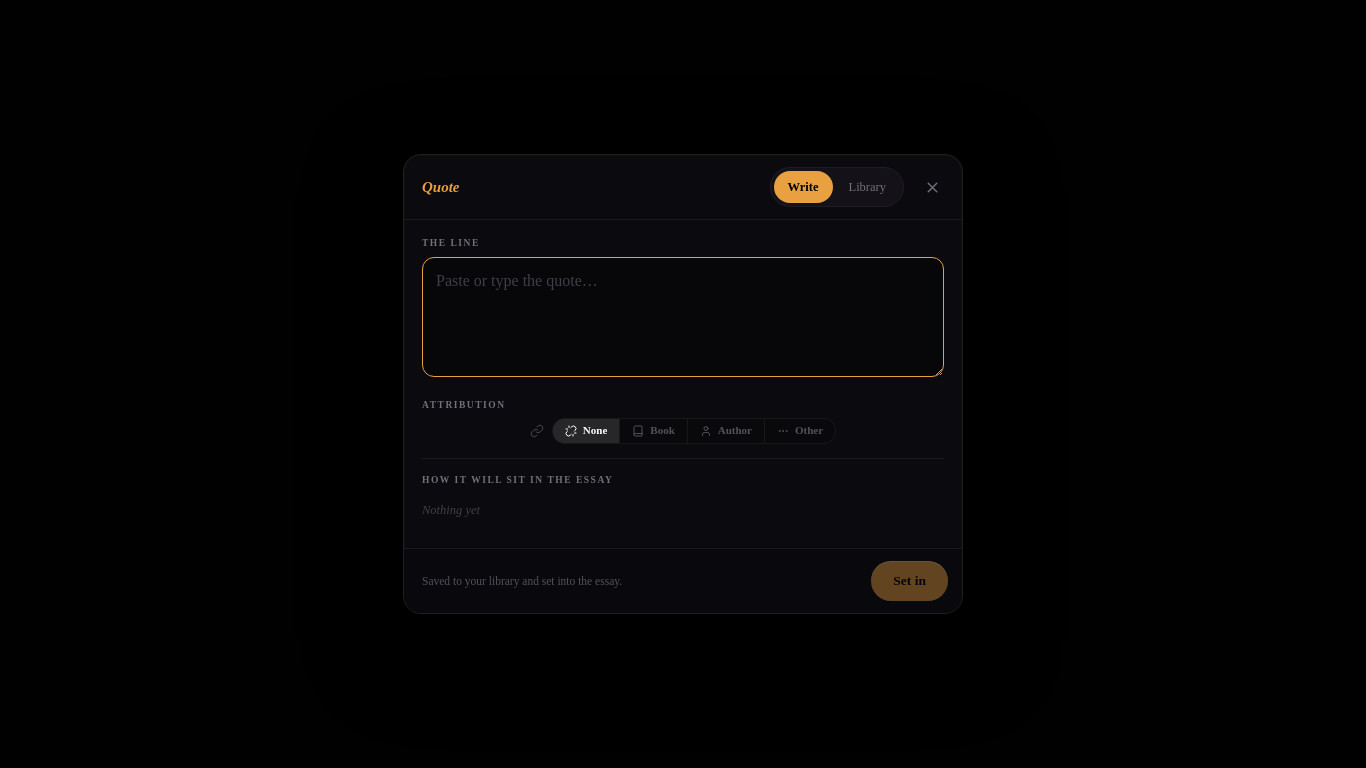
Test: EssayQuoteModal — writing › says so and sets nothing in when the save fails
Type "Something worth keeping." into the text box labelled "The line". click: (683, 316)
box: [422,256,944,376]
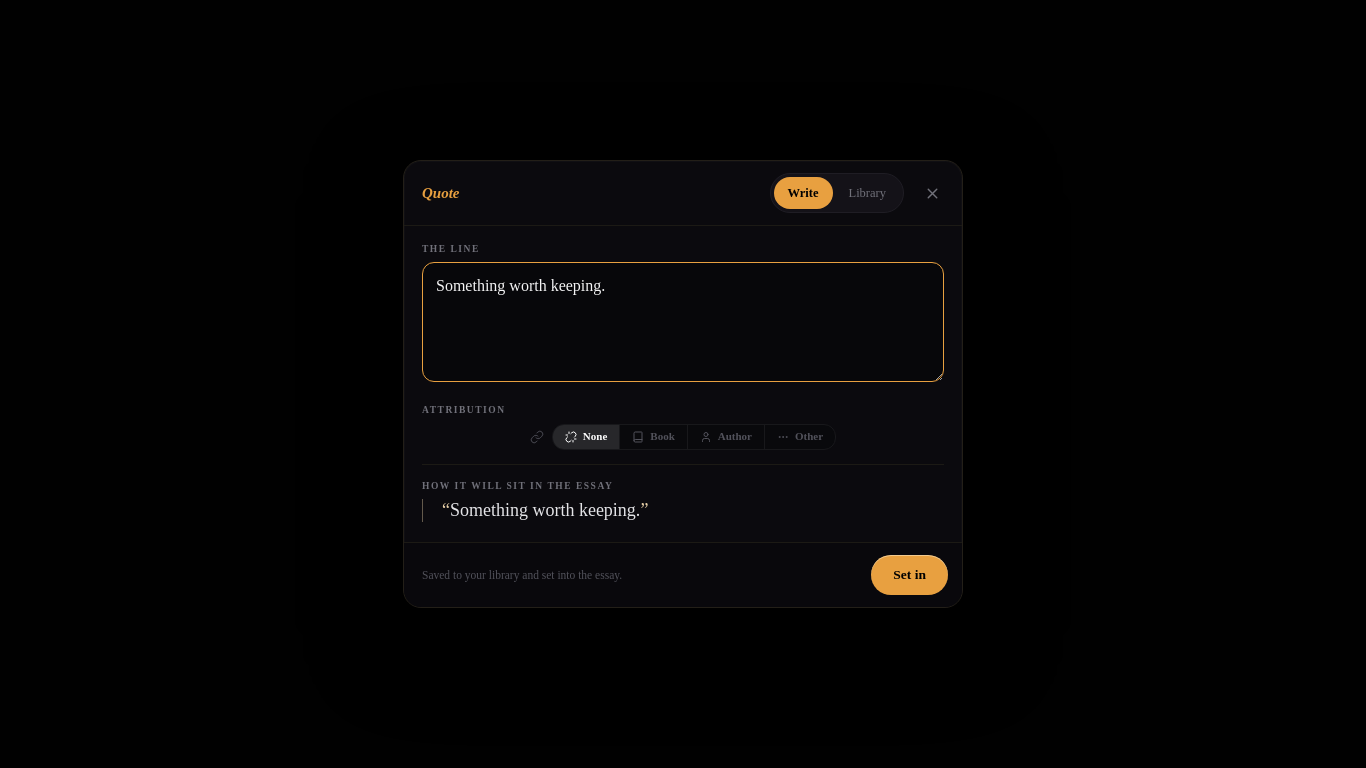
Click the button "Set in". click: click(910, 575)
box: [871,555,948,595]
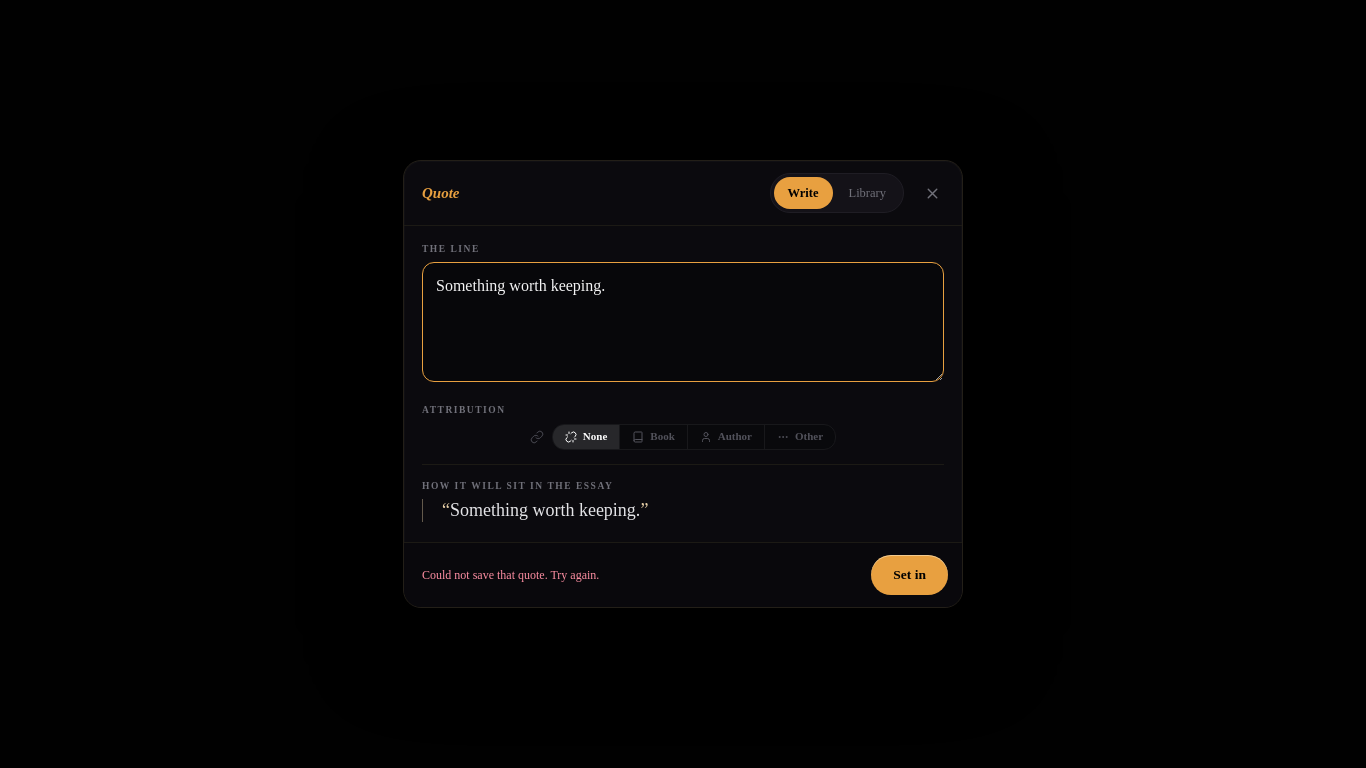
Expected: the text "Could not save that quote. Try again." is shown, [422,568,599,582]
